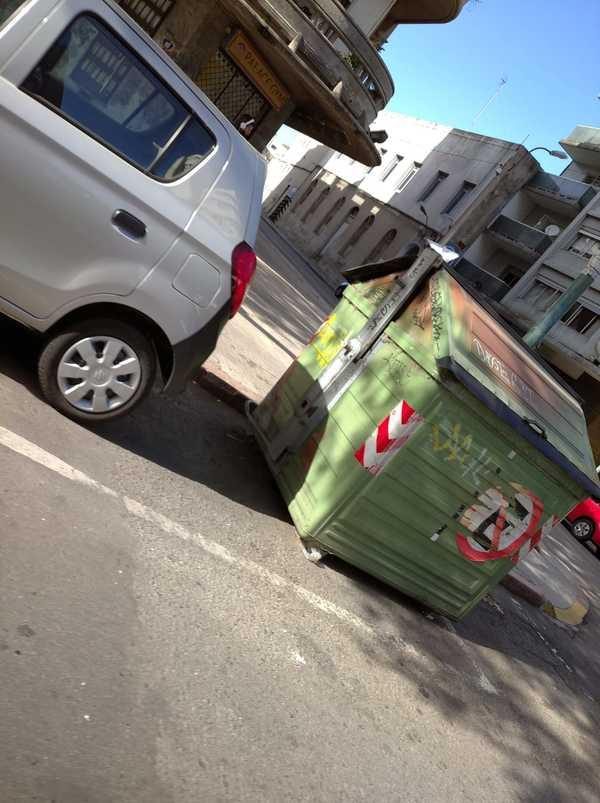Trash: (249, 242, 599, 621)
